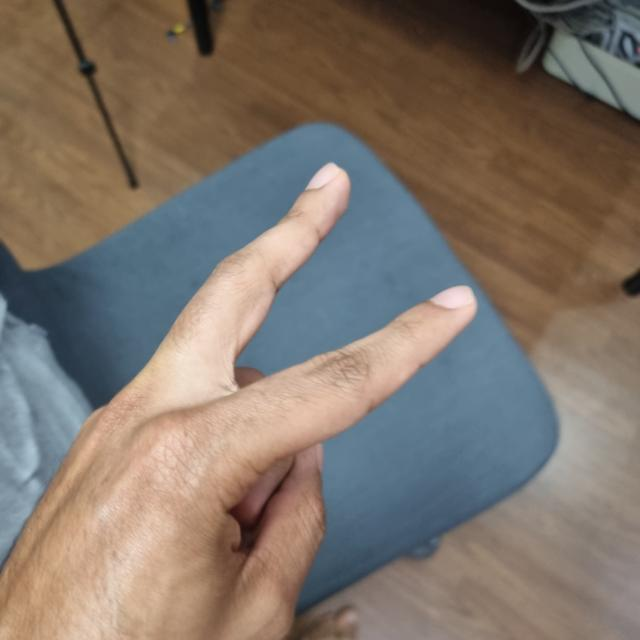Scissors: (0, 163, 472, 638)
